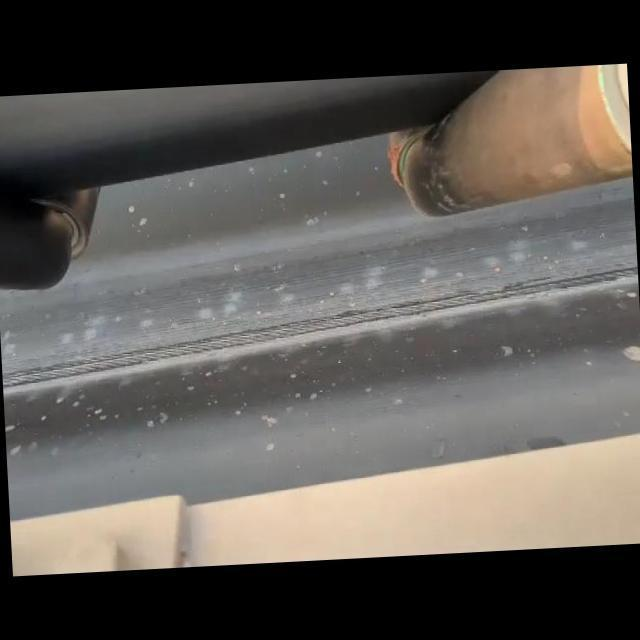Wear: (0, 262, 640, 396)
